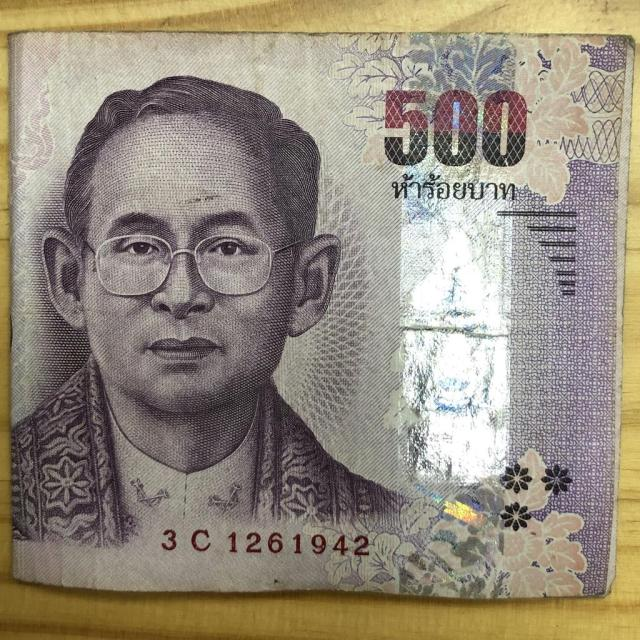THAI500: (10, 32, 634, 599)
